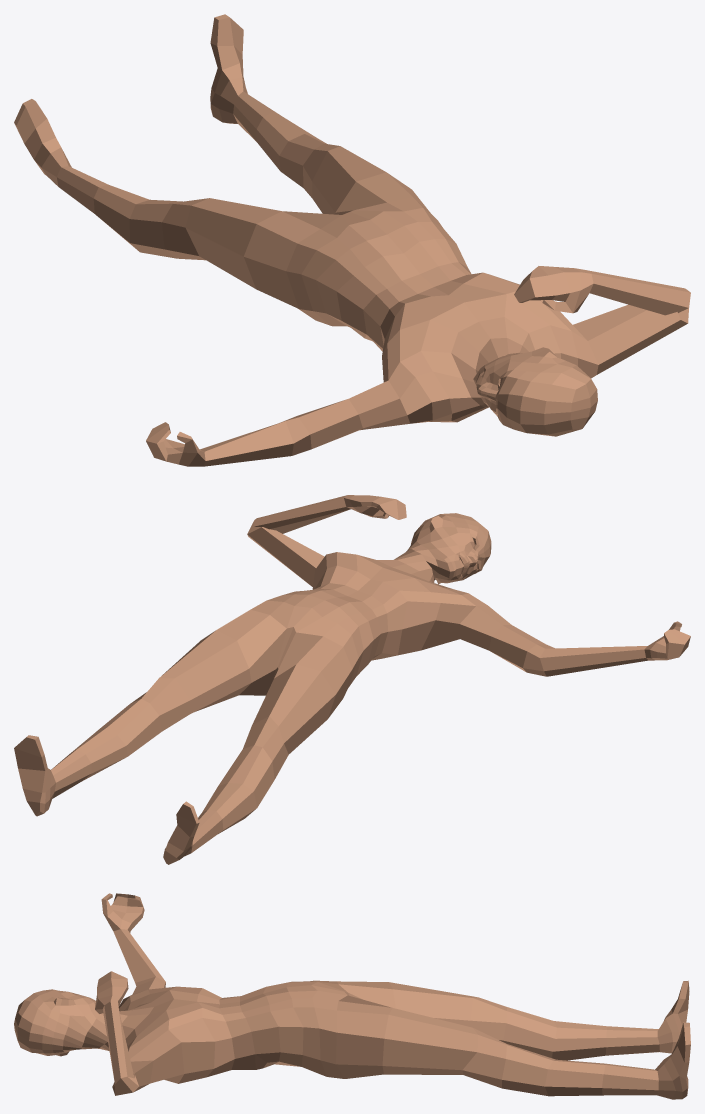
File: Archer.001_Skin.obj
3 views of the same model, one above another, from view 1: azimuth 30°, elevation 25°; view 2: azimuth 150°, elevation 25°; view 3: azimuth 270°, elevation 25° (orthographic). The views are drawn at different scales.
Parts seen in each view (by area): view 1: Archer.001; view 2: Archer.001; view 3: Archer.001.
Boxes of the visible parts, x1=… form: Archer.001: x1=14, y1=14, x2=690, y2=466; Archer.001: x1=14, y1=495, x2=690, y2=864; Archer.001: x1=14, y1=893, x2=690, y2=1099.
Bounding box in the file's own units: 3.76 × 1.08 × 5.39.
